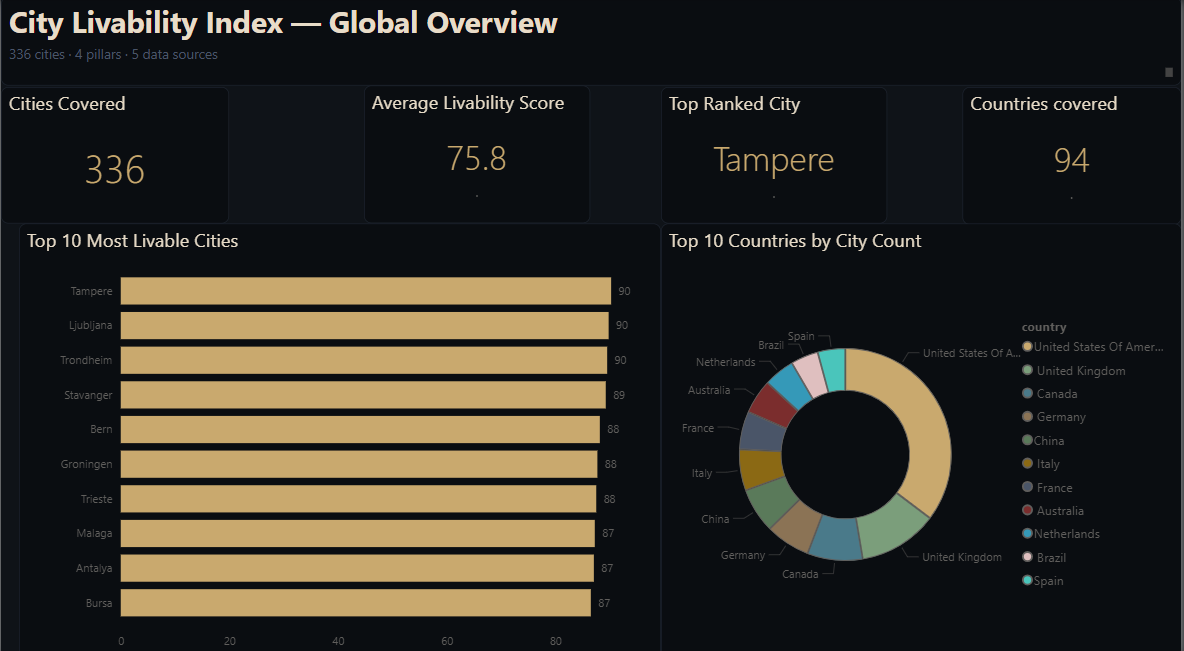

Layout of this report page (visuals, bound fields, positions):
{"tool":"powerbi","page":{"name":"Overview","canvas":[1280,720],"ordinal":0},"visuals":[{"type":"card","title":"Cities Covered","fields":{"Values":["Count(daedalus_scored (2).city)"]},"box":[0,97.6,247.2,148],"z":0},{"type":"card","title":"Average Livability Score","fields":{"Values":["Avg(daedalus_scored.livability_score_absolute)"]},"box":[393.6,96,245.6,149.6],"z":1000},{"type":"card","title":"Top Ranked City","fields":{"Values":["daedalus_scored (2).TopCity"]},"box":[715.7,97.6,245.6,148],"z":2000},{"type":"card","title":"Countries covered","fields":{"Values":["Count(daedalus_scored.country)"]},"box":[1042.6,97.6,237.5,149.6],"z":3000},{"type":"clusteredBarChart","title":"Top 10 Most Livable Cities","fields":{"Category":["daedalus_scored (2).city"],"Y":["Avg(daedalus_scored (2).livability_score_absolute)"]},"box":[19.5,245.6,696.2,475],"z":4000},{"type":"donutChart","title":"Top 10 Countries by City Count","fields":{"Category":["daedalus_scored (2).country"],"Y":["CountNonNull(daedalus_scored (2).city)"]},"box":[715.7,245.6,564.4,475],"z":5000},{"type":"textbox","title":"City Livability Index — Global Overview","box":[0,0,1280.1,96],"z":6000}]}

Visuals, with their boxes in screenshot pixels (x1, y1, x2, y2), scaled from the page's 1280x720 canvas onto the 1184x651 screenshot:
"Cities Covered" card: x1=0 y1=88 x2=229 y2=222
"Average Livability Score" card: x1=364 y1=87 x2=591 y2=222
"Top Ranked City" card: x1=662 y1=88 x2=889 y2=222
"Countries covered" card: x1=964 y1=88 x2=1183 y2=224
"Top 10 Most Livable Cities" clusteredBarChart: x1=18 y1=222 x2=662 y2=650
"Top 10 Countries by City Count" donutChart: x1=662 y1=222 x2=1183 y2=650
"City Livability Index — Global Overview" textbox: x1=0 y1=0 x2=1183 y2=87
